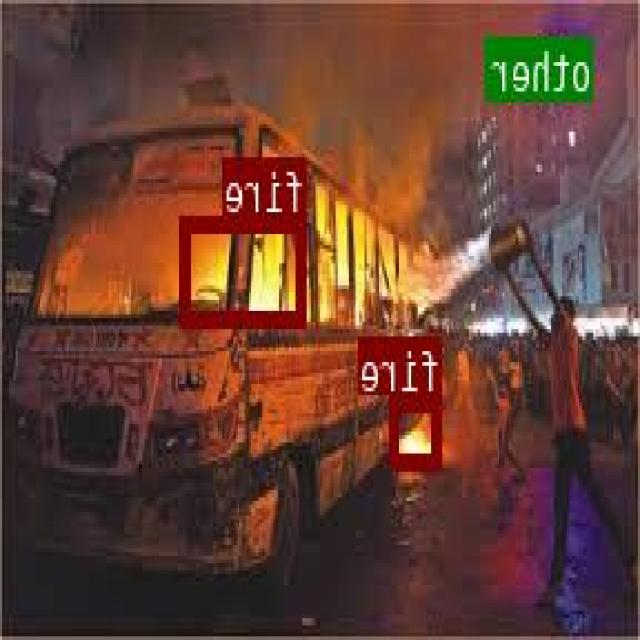fire: (182, 212, 308, 324), (392, 393, 444, 465)
other: (488, 34, 594, 98)
